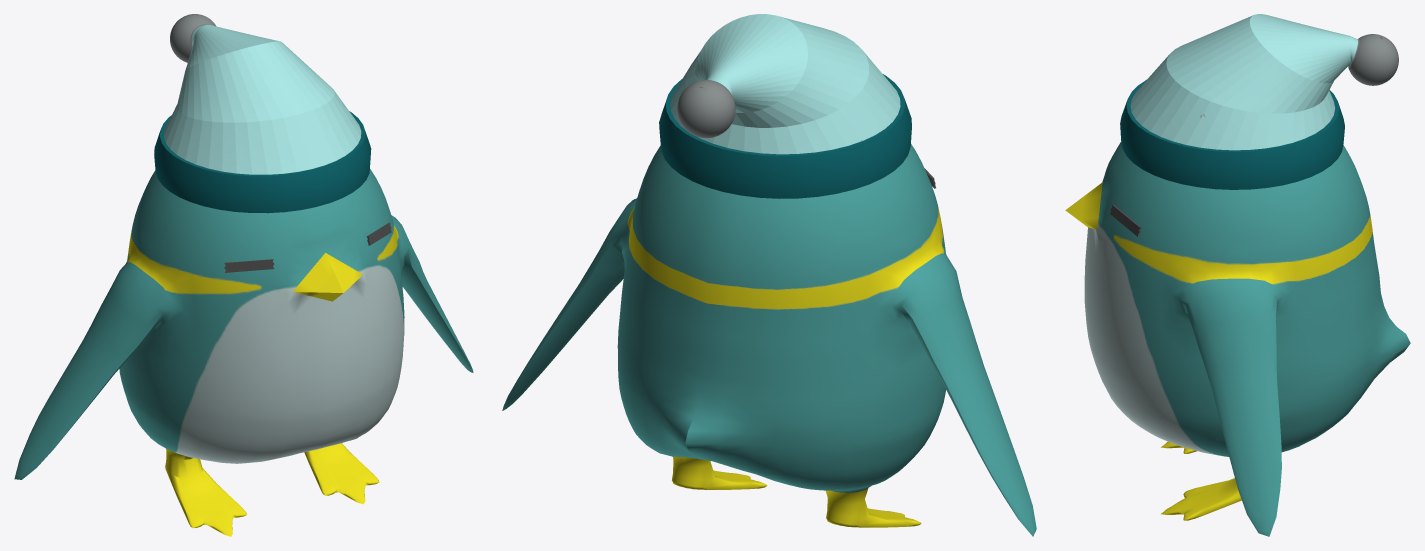
The model's file is penguin_blue_blink_04f.fbx.
3 views of the same model, side by side, from view 1: azimuth 30°, elevation 25°; view 2: azimuth 150°, elevation 25°; view 3: azimuth 270°, elevation 25° (orthographic). The views are drawn at different scales.
Visible parts, largest first — view 1: ppp4, bousi, ai; view 2: ppp4, bousi; view 3: ppp4, bousi.
Boxes of the visible parts, x1,y1,x2,y2 form: ppp4: (14,169,473,536); bousi: (154,14,371,213); ai: (224,222,391,272); ppp4: (502,144,1036,536); bousi: (659,14,911,198); ppp4: (1065,142,1410,536); bousi: (1120,14,1398,189).
Bounding box in the file's own units: 23.07 × 21.45 × 14.63.
Materials: 1 (1 with a texture image).
